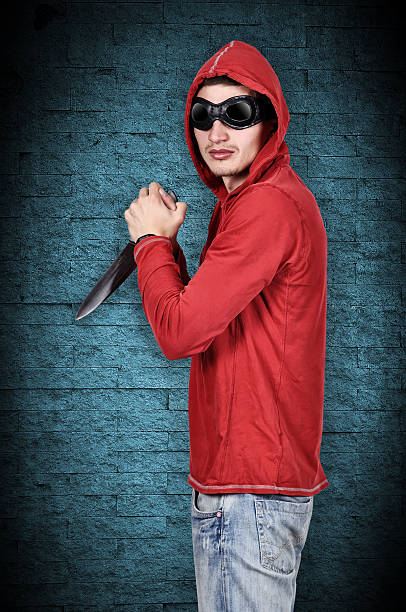knife: (71, 238, 143, 321)
